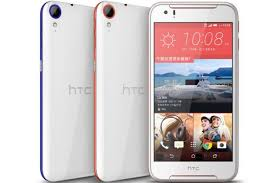htc: (148, 2, 240, 180), (92, 1, 150, 183), (38, 1, 96, 183)
